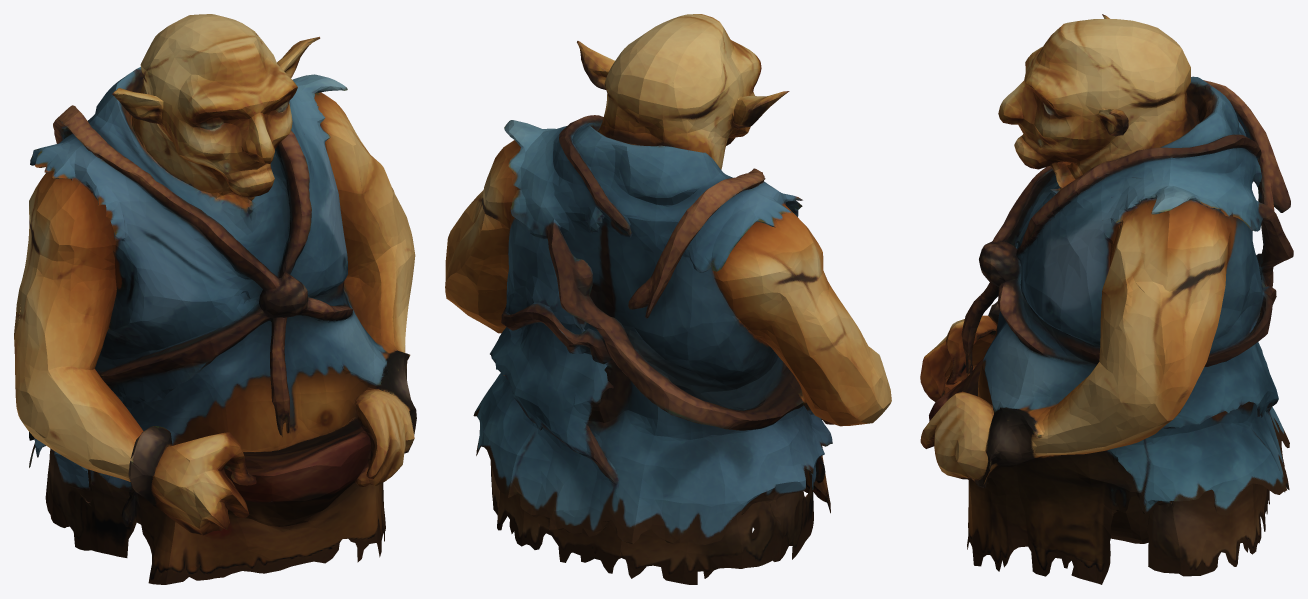
The picture shows the model from 3 angles, left to right: view 1: azimuth 30°, elevation 25°; view 2: azimuth 150°, elevation 25°; view 3: azimuth 270°, elevation 25°; orthographic projection. The views are drawn at different scales.
Parts seen in each view (by area): view 1: world; view 2: world; view 3: world.
Part boxes in pixels (x1,y1,x2,y2): world: [14, 14, 416, 584]; world: [445, 14, 891, 584]; world: [920, 14, 1293, 584].
Bounding box in the file's own units: 0.8566 × 0.9954 × 0.6815.
1 material, 1 textured.
